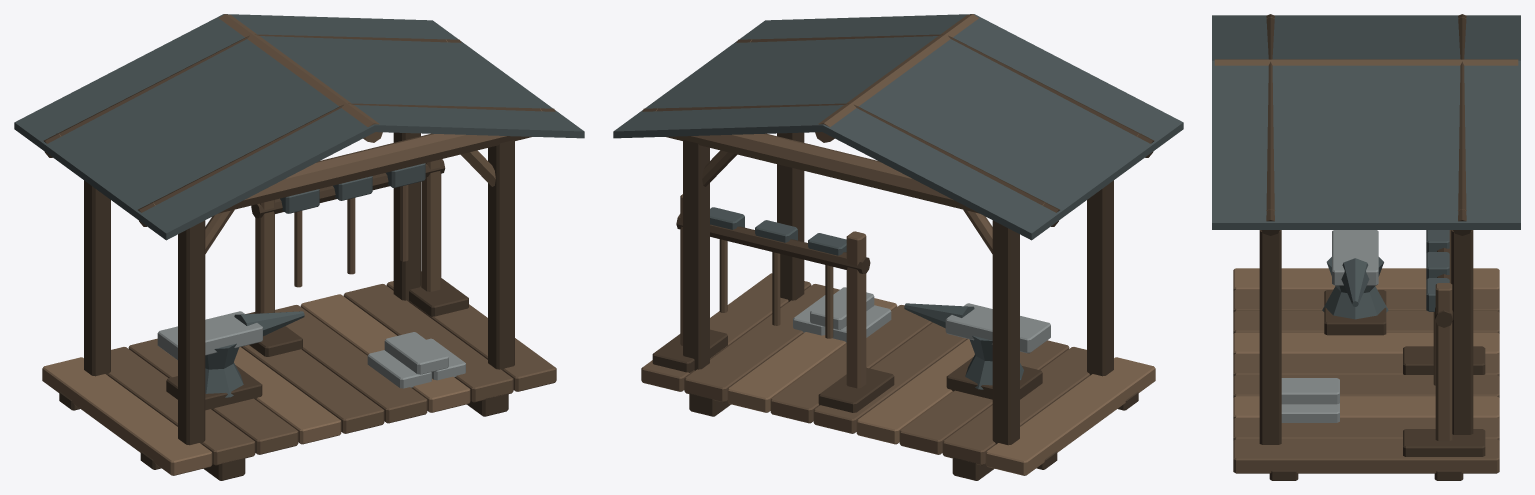
File: forging-bay.glb
3 renders of one model, left to right at view 1: azimuth 30°, elevation 25°; view 2: azimuth 150°, elevation 25°; view 3: azimuth 270°, elevation 25°, orthographic.
Parts seen in each view (by area): view 1: forging-bay__body; view 2: forging-bay__body; view 3: forging-bay__body.
Part boxes in pixels (x1,y1,x2,y2): forging-bay__body: [14, 14, 584, 480]; forging-bay__body: [613, 14, 1183, 480]; forging-bay__body: [1212, 14, 1520, 480].
Bounding box in the file's own units: 2.21 × 1.67 × 1.39.
